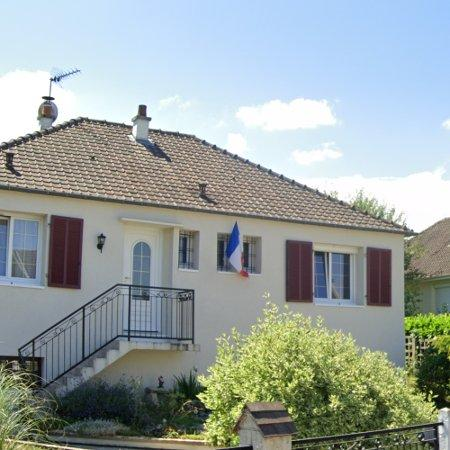stairs: (19, 285, 199, 396)
